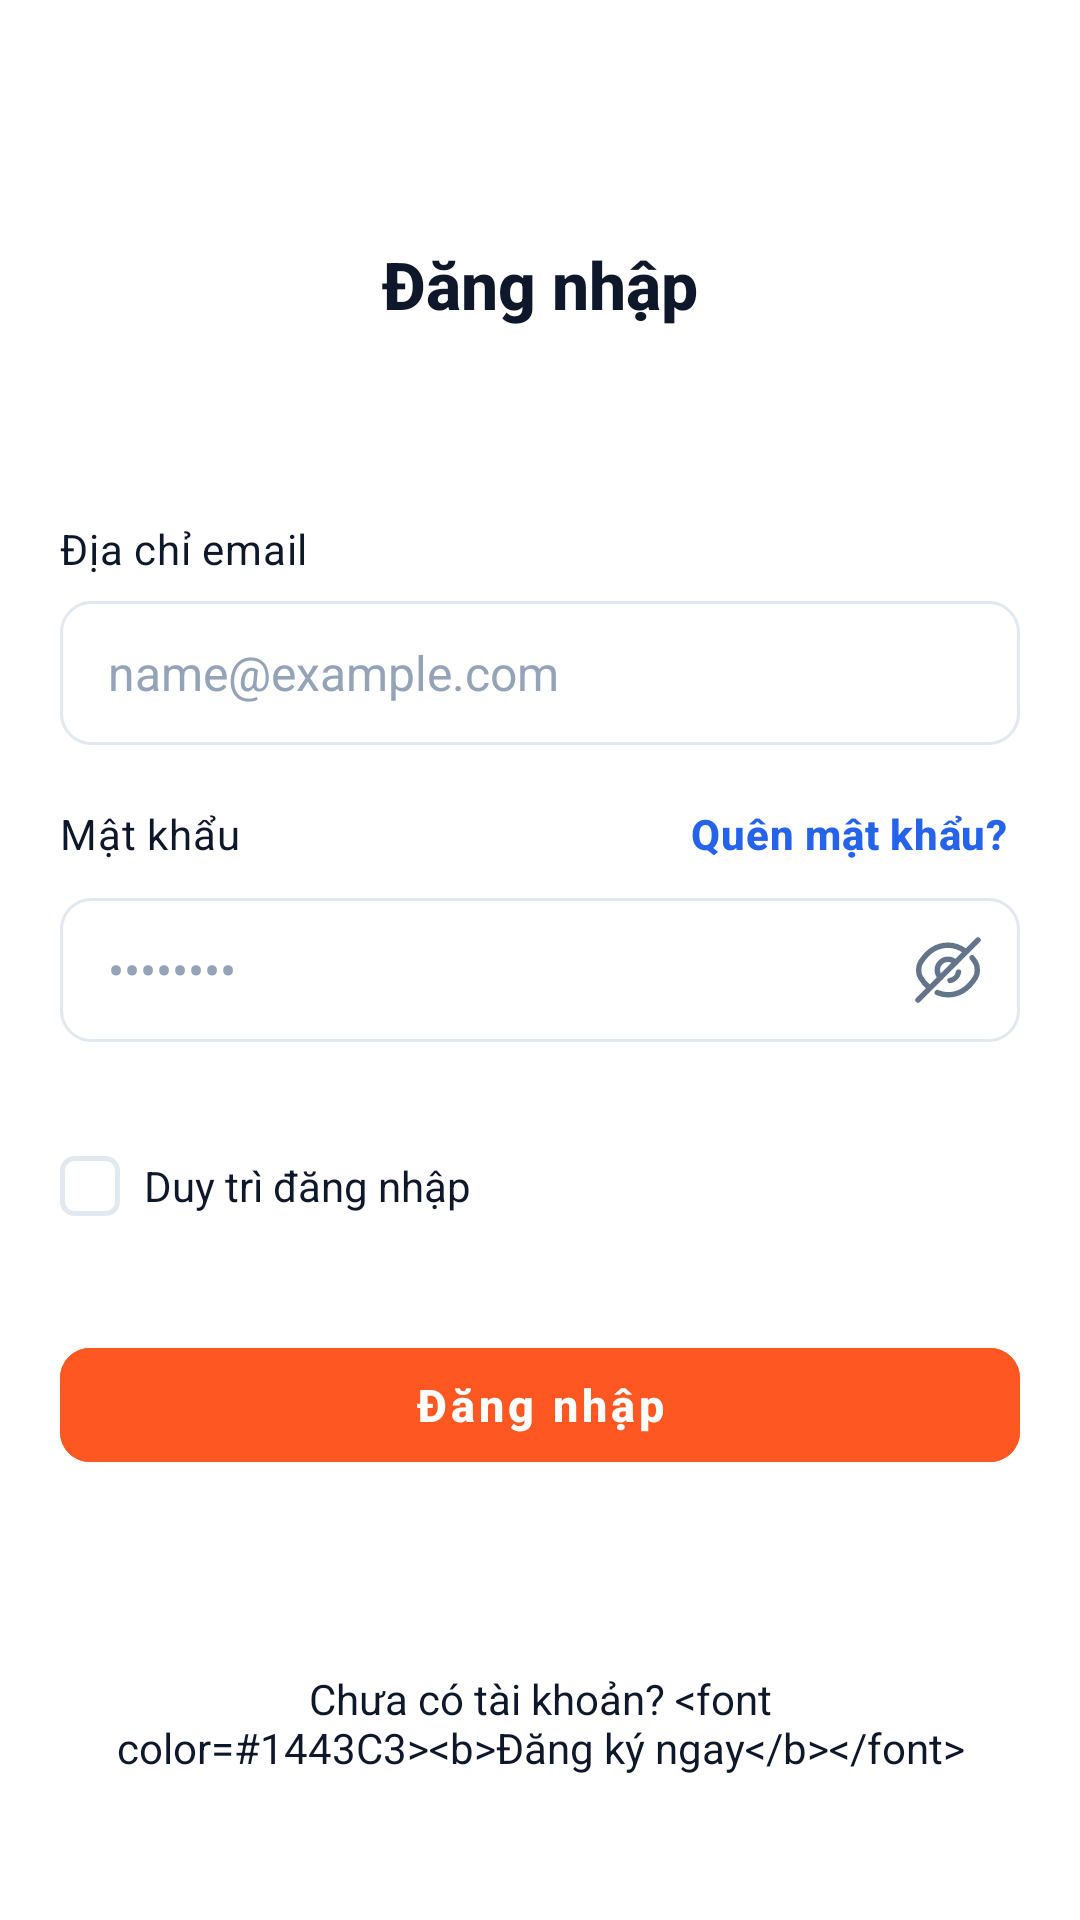

Named icons in this screenshot (1080x1920) and their bounding boxes, (x1, y1, x2, y2):
Ẩn/hiện mật khẩu: (915, 937, 981, 1003)
